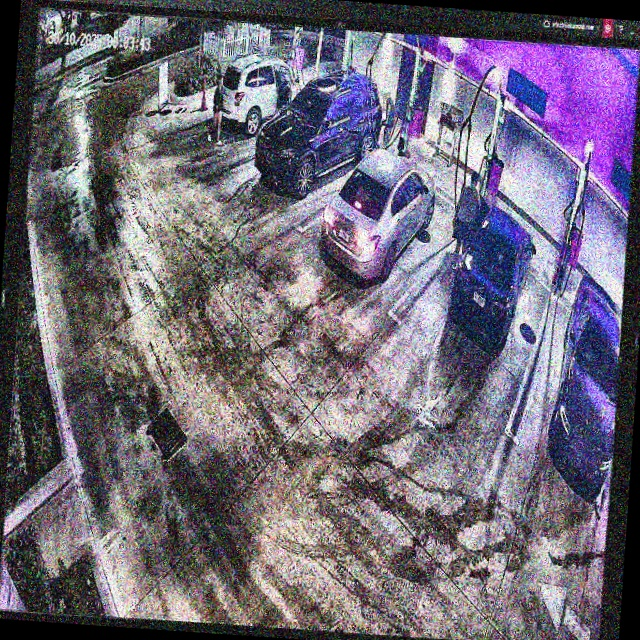Car: (254, 68, 387, 199), (319, 146, 438, 289), (448, 184, 539, 350)
